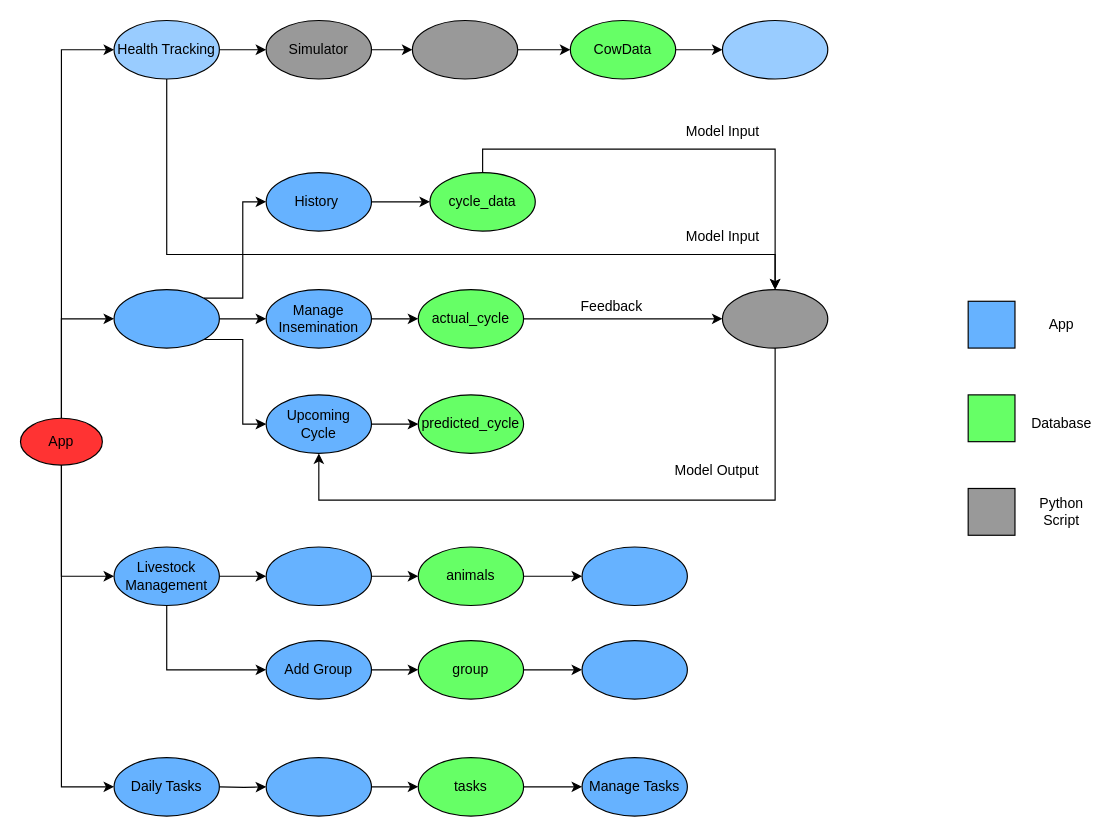
The diagram is 1117 pixels wide and 837 high, and some of its shapes have lost their labels. Here are the shapes that lost their labels. From the top down, the centre of each, then its label:
point (464, 49): RabbitMQ
point (774, 49): Health Monitoing Charts
point (166, 318): Insemination Schedule
point (774, 318): Machine Learning Model
point (318, 575): Add Animals
point (634, 575): Manage Animals
point (634, 669): Manage Group
point (318, 786): Add Tasks
